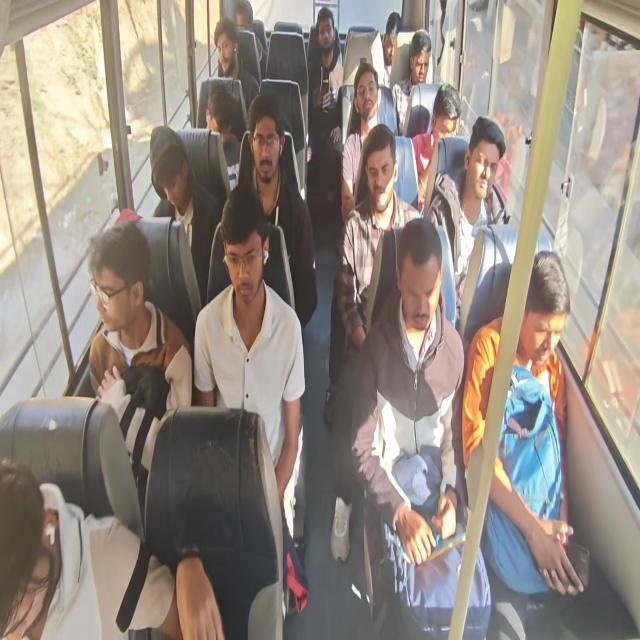person: (0, 441, 58, 639), (396, 218, 446, 337), (520, 248, 570, 366), (92, 221, 146, 323), (225, 194, 268, 309), (465, 125, 511, 190), (202, 83, 236, 158), (248, 112, 282, 186), (158, 130, 190, 208), (427, 86, 469, 142), (369, 125, 398, 204), (208, 16, 242, 80), (349, 59, 381, 122), (409, 34, 440, 92), (311, 8, 338, 64), (380, 16, 411, 62), (234, 0, 254, 31)
